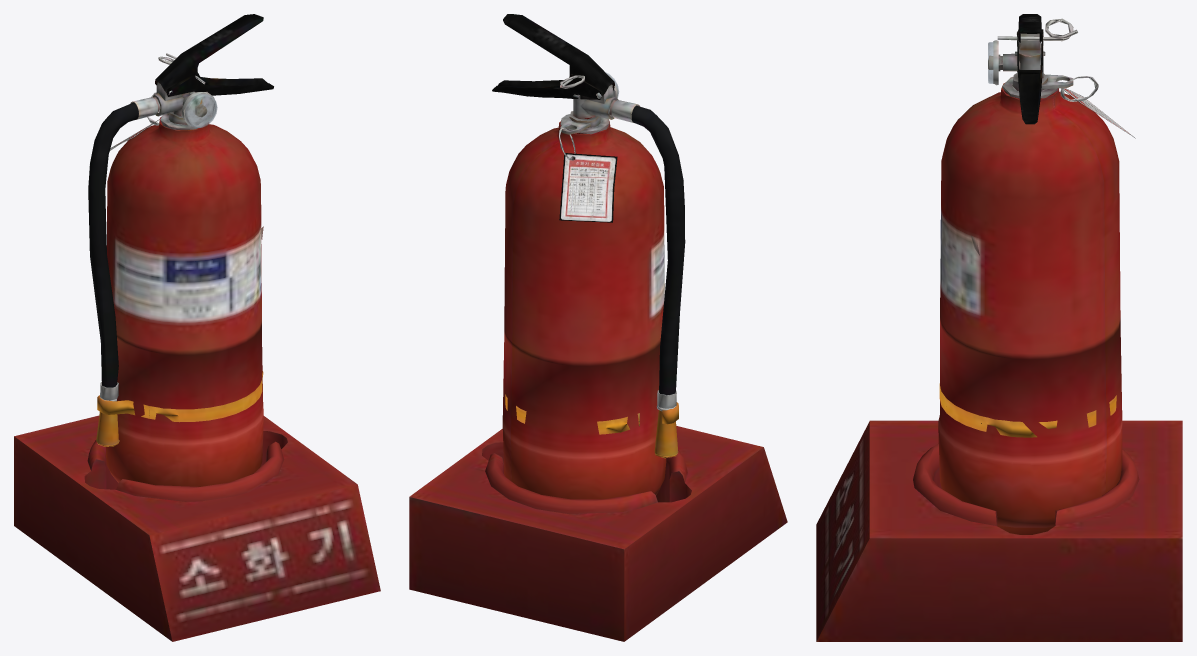
File: korean_fire_extinguisher_01.glb
The picture shows the model from 3 angles, left to right: view 1: azimuth 30°, elevation 25°; view 2: azimuth 150°, elevation 25°; view 3: azimuth 270°, elevation 25°; orthographic projection. The views are drawn at different scales.
Visible parts, largest first — view 1: korean_fire_extinguisher_01; view 2: korean_fire_extinguisher_01; view 3: korean_fire_extinguisher_01.
Boxes of the visible parts, x1,y1,x2,y2 form: korean_fire_extinguisher_01: (14, 14, 380, 641); korean_fire_extinguisher_01: (409, 14, 787, 641); korean_fire_extinguisher_01: (816, 14, 1182, 641).
Bounding box in the file's own units: 0.279 × 0.6581 × 0.3674.
3 materials, 3 textured.
